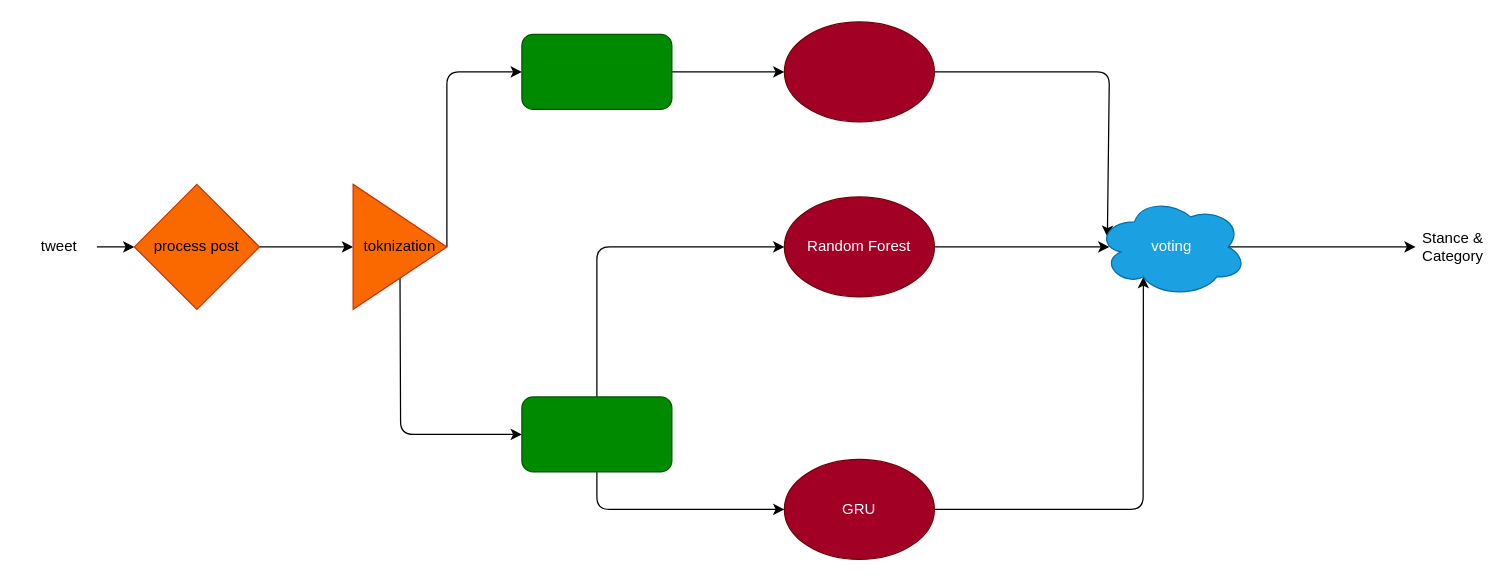
Image size: 1511x581. Some labels were removed from this diagram. Each missing label, with the box of its shape:
Ara2Vec Embedding: (521, 396, 672, 472)
Complement Naive Bayes: (783, 21, 934, 122)
TF-IDF: (521, 33, 672, 109)
